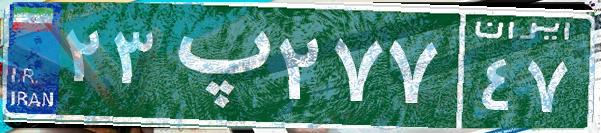2: (273, 28, 330, 110), (57, 26, 110, 107)
3: (110, 28, 158, 105)
4: (475, 38, 525, 113)
7: (385, 28, 445, 110), (330, 28, 385, 110), (525, 38, 570, 115)
پ: (158, 15, 273, 115)
